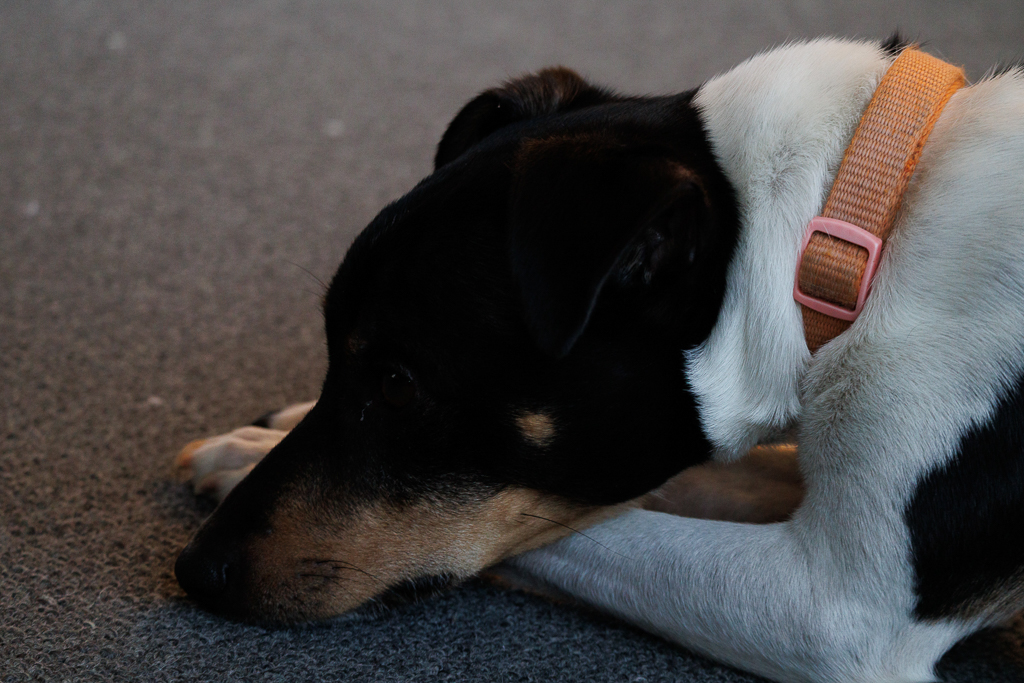Dog: (154, 16, 1024, 683)
